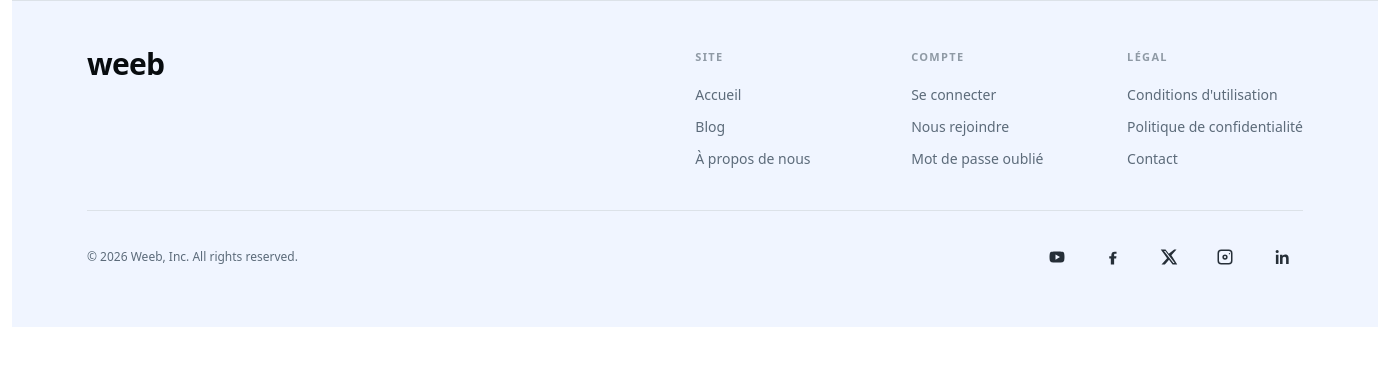
Footer — liens internes › navigue sans recharger l'application
Click the link "Blog" at (710, 126), box [695,116,725,136]
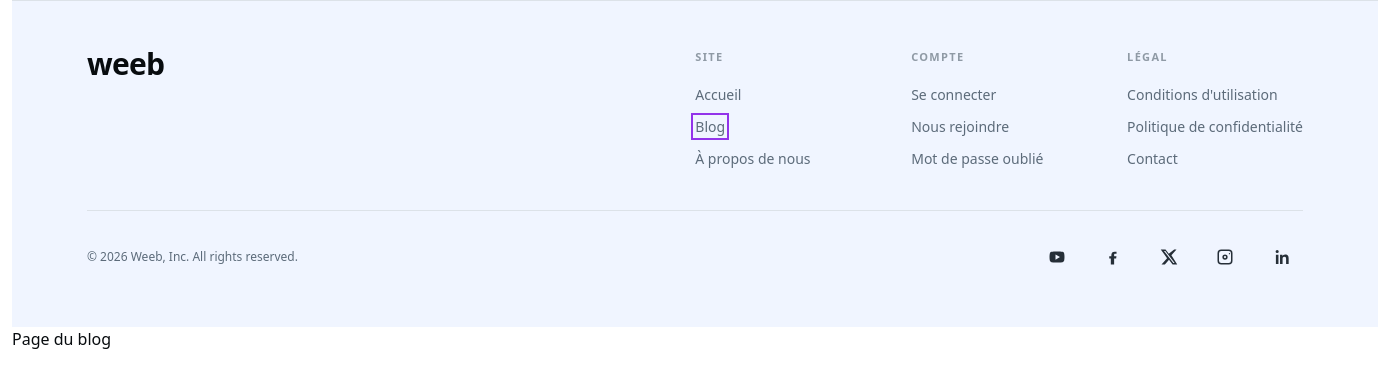
Result: the text "Page du blog" is shown at [12,328,111,350]
